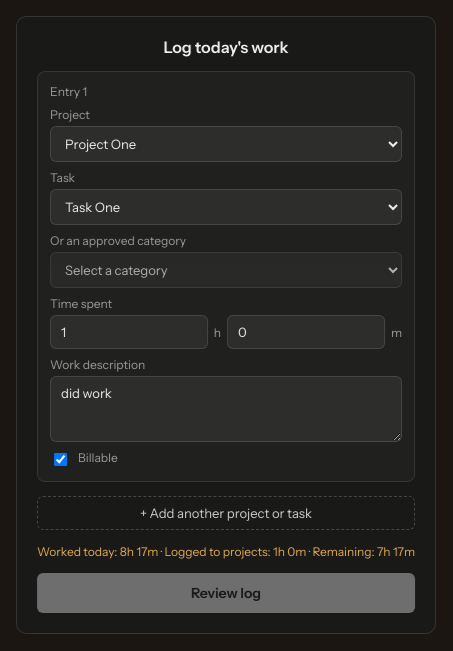
Test: TimeLogForm time spent (HH:MM) › clamps minutes above 59
Replace the text in the number field named "Minutes" with "75" at x=306, y=332, box [227,315,385,349]
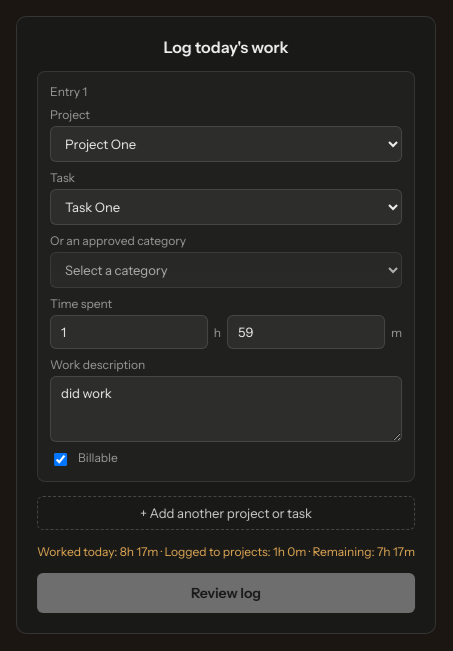
Check: the number field named "Minutes" holds "59", box [227,315,385,349]
